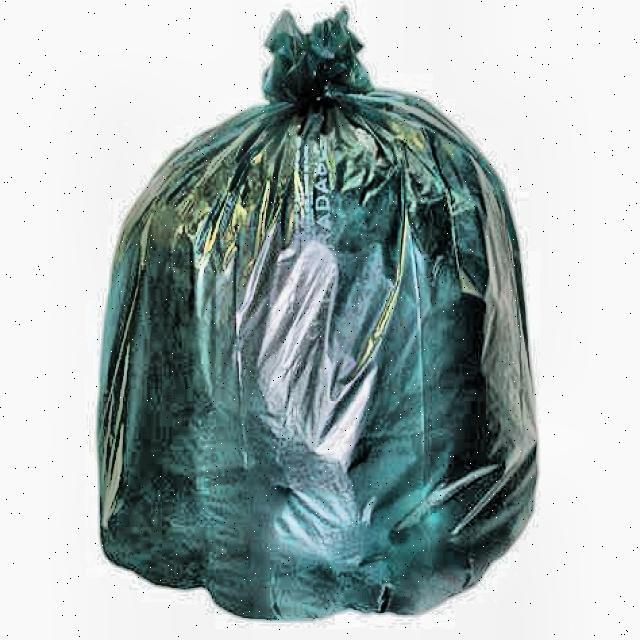Trashbag: (73, 11, 565, 629)
